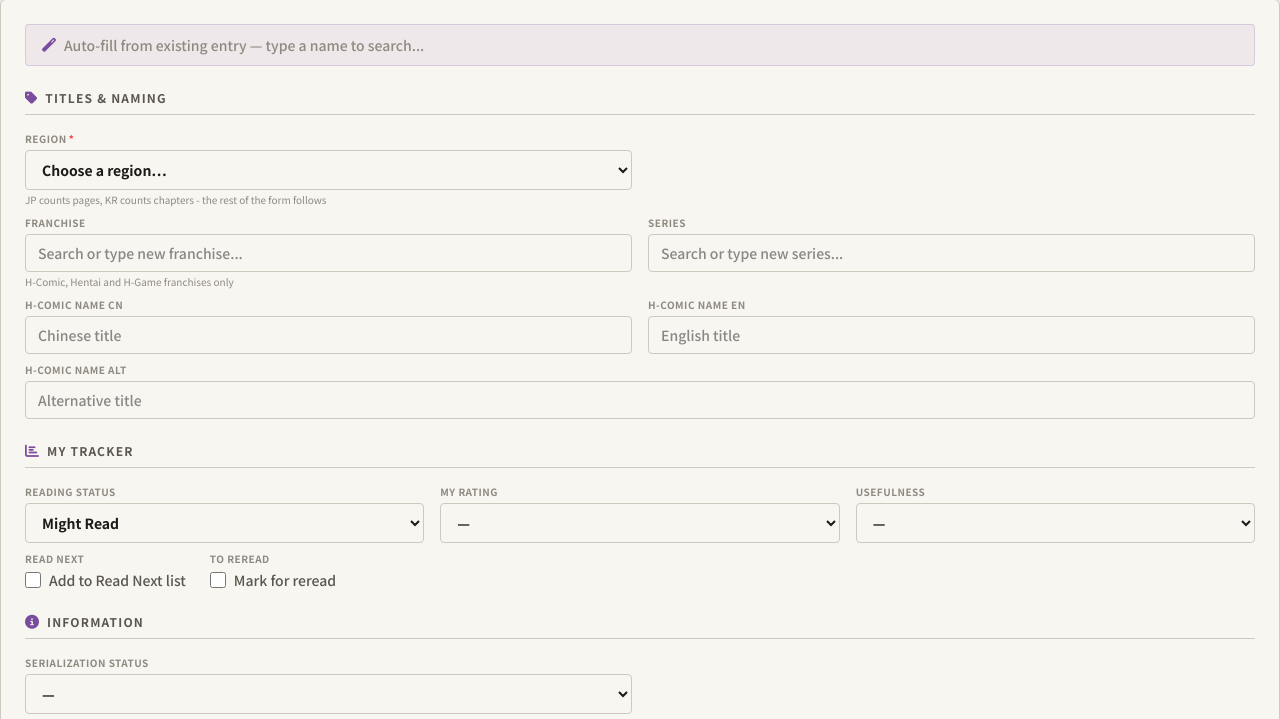
Test: HComicAddTab › shows the KR fields on KR
This screenshot has width=1280, height=719.
Select "KR" in the dropdown named "Region" at (328, 170), box [25, 150, 632, 190]
(page scrolled)
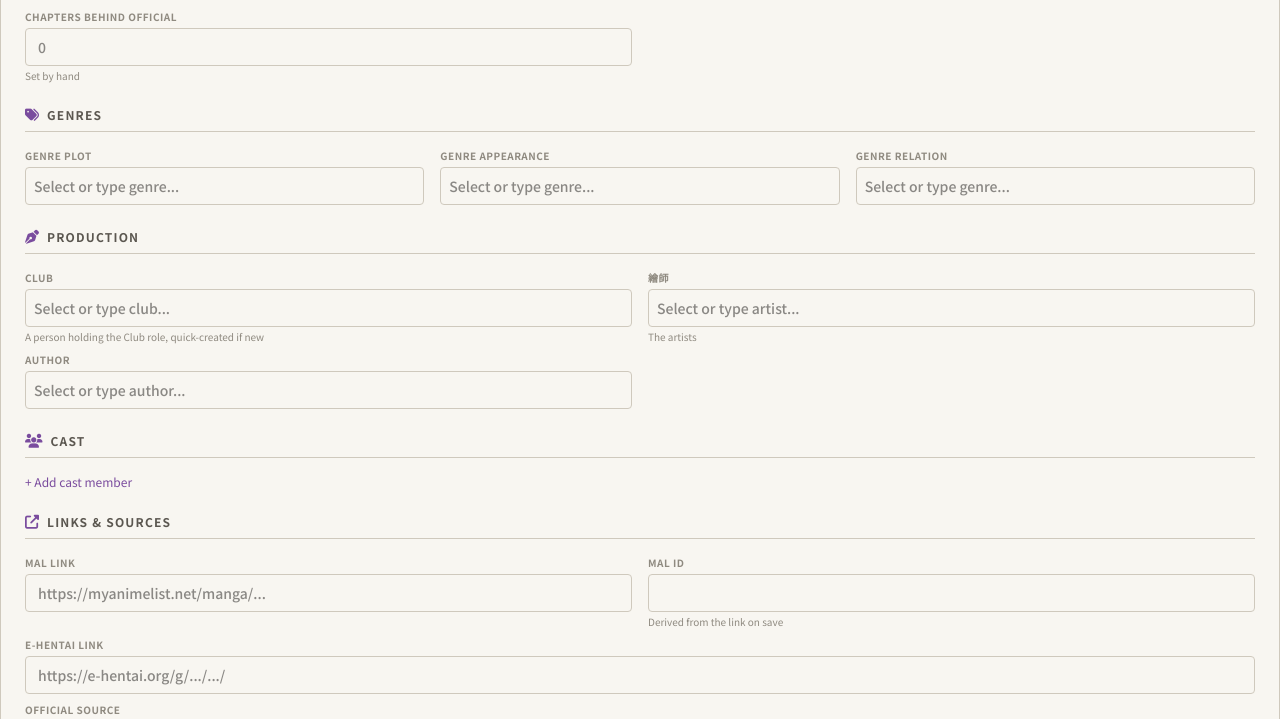
Expected: the number field named "Chapters Behind Official" is shown, [25, 28, 632, 66]
Expected: the text "Official Source" is shown, [25, 702, 120, 717]
Expected: the text "Author" is shown, [25, 352, 70, 367]
